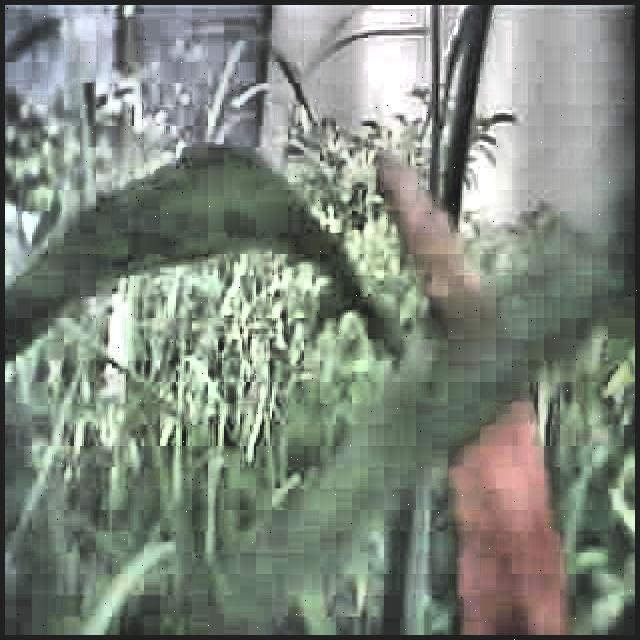Cabai: (387, 181, 595, 635)
